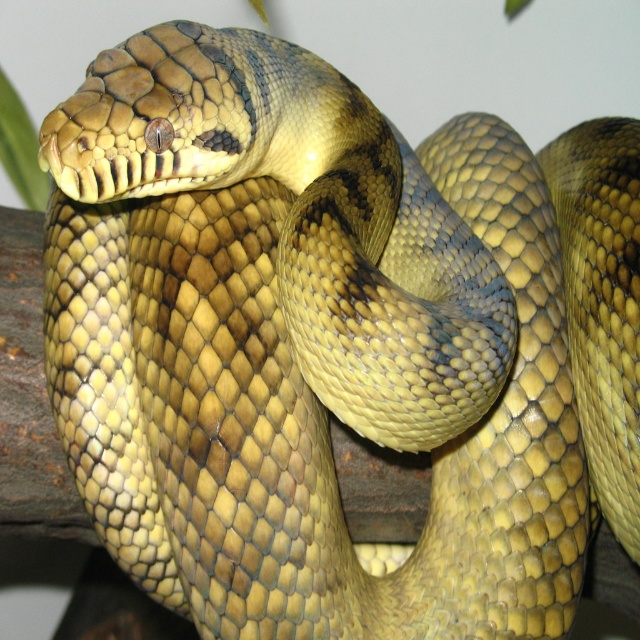Snake: (37, 20, 640, 640)
